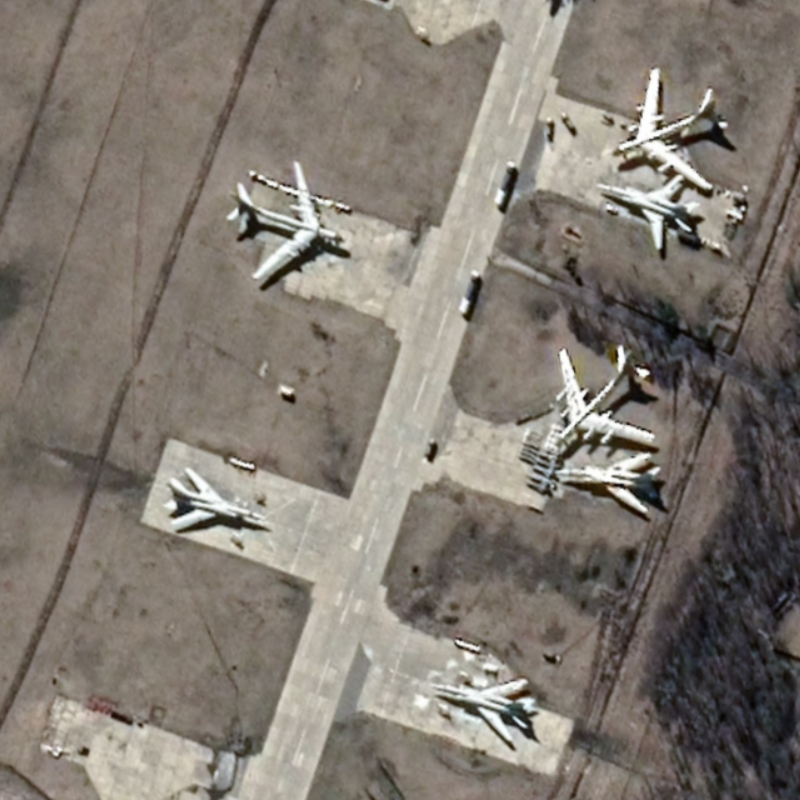A12: (594, 171, 703, 252), (427, 675, 538, 745), (551, 450, 664, 516), (163, 465, 267, 533)
A17: (611, 65, 731, 193), (224, 159, 346, 282), (553, 342, 657, 450)
